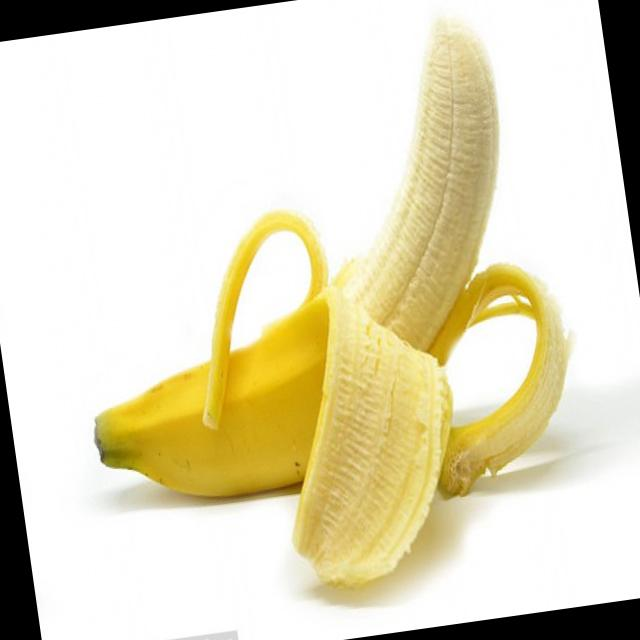banana: (37, 0, 590, 531)
